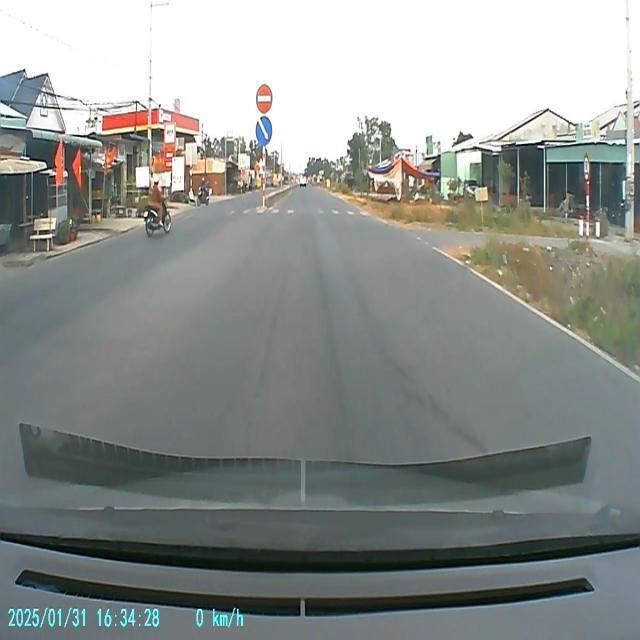102-cam-di-nguoc-chieu: (255, 82, 272, 115)
302a-huong-phai-di-vong-chuong-ngai-vat-1: (255, 115, 273, 146)
